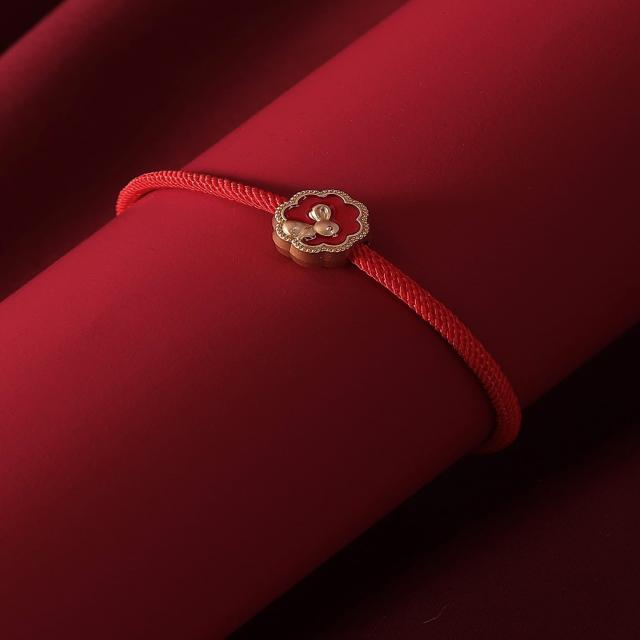bracelet: (61, 112, 638, 530)
